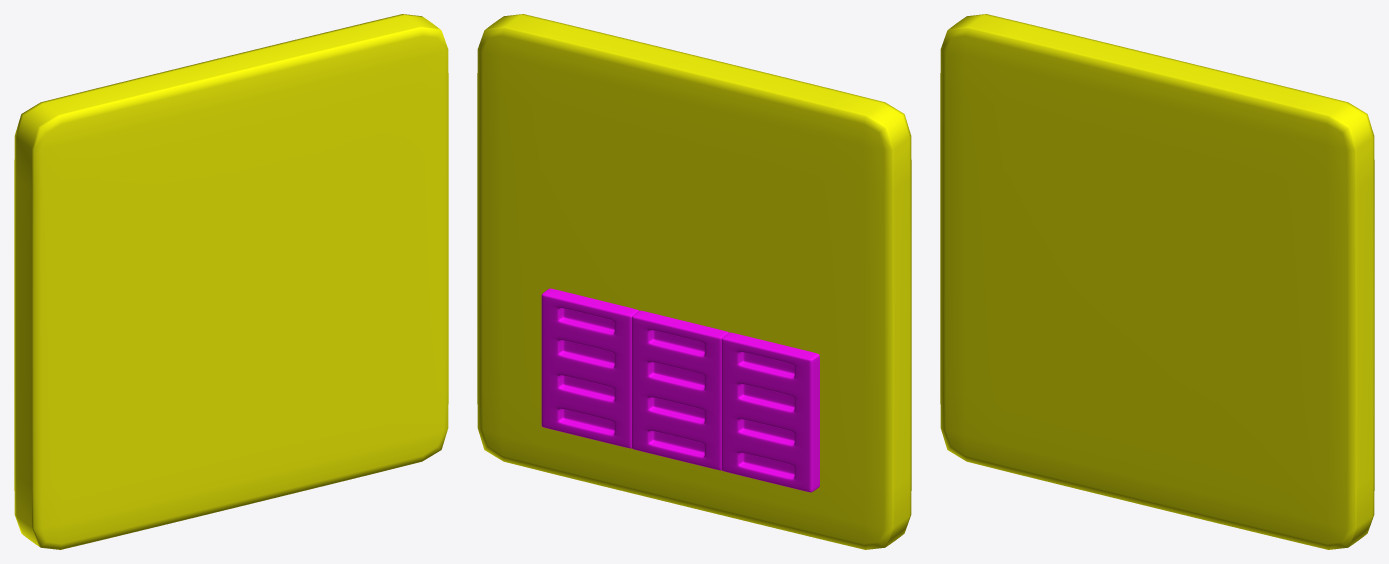
The picture shows the model from 3 angles, left to right: view 1: azimuth 30°, elevation 25°; view 2: azimuth 150°, elevation 25°; view 3: azimuth 330°, elevation 25°; orthographic projection.
Visible parts, largest first — view 1: polySurface977; view 2: polySurface977; view 3: polySurface977.
Part boxes in pixels (bbox=[...]): polySurface977: bbox=[14, 14, 448, 549]; polySurface977: bbox=[477, 14, 911, 549]; polySurface977: bbox=[940, 14, 1374, 549].
Bounding box in the file's own units: 0.9994 × 0.9994 × 0.1327.
